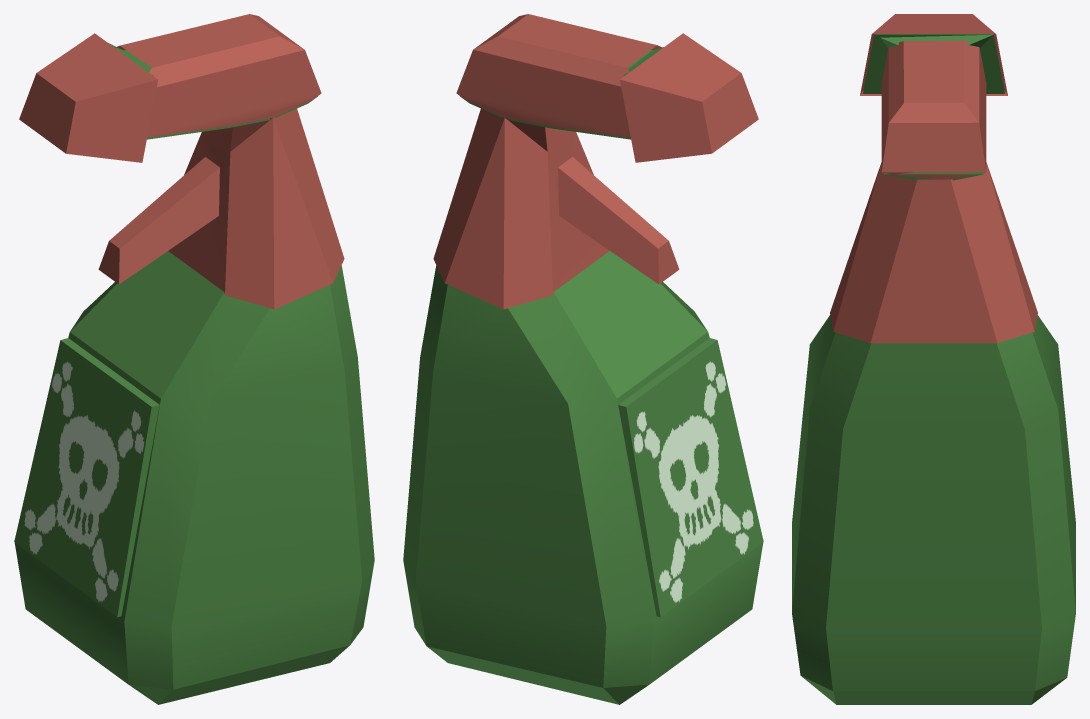
The model's file is poison.fbx.
3 renders of one model, left to right at view 1: azimuth 30°, elevation 25°; view 2: azimuth 150°, elevation 25°; view 3: azimuth 270°, elevation 25°, orthographic.
Visible parts, largest first — view 1: pCube7; view 2: pCube7; view 3: pCube7.
Boxes of the visible parts, x1=… form: pCube7: x1=14, y1=14, x2=374, y2=704; pCube7: x1=403, y1=14, x2=763, y2=704; pCube7: x1=792, y1=14, x2=1075, y2=704.
Bounding box in the file's own units: 1.11 × 2.32 × 1.
3 materials, 3 textured.
